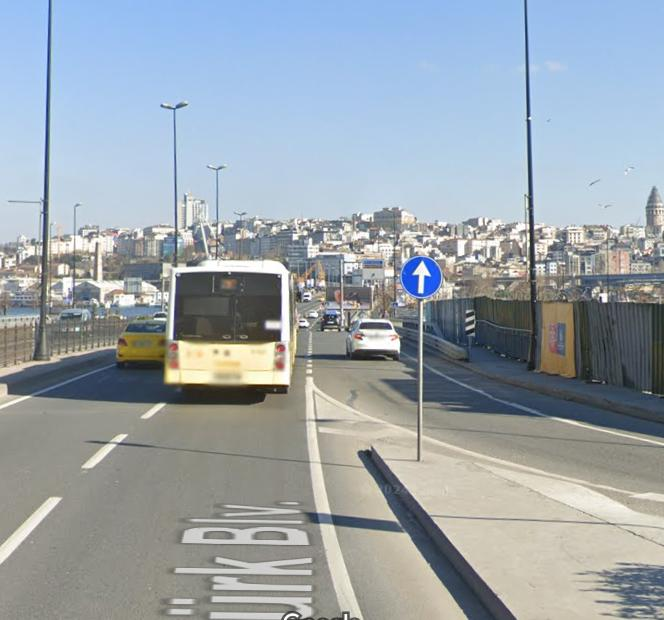forward: (400, 255, 444, 297)
